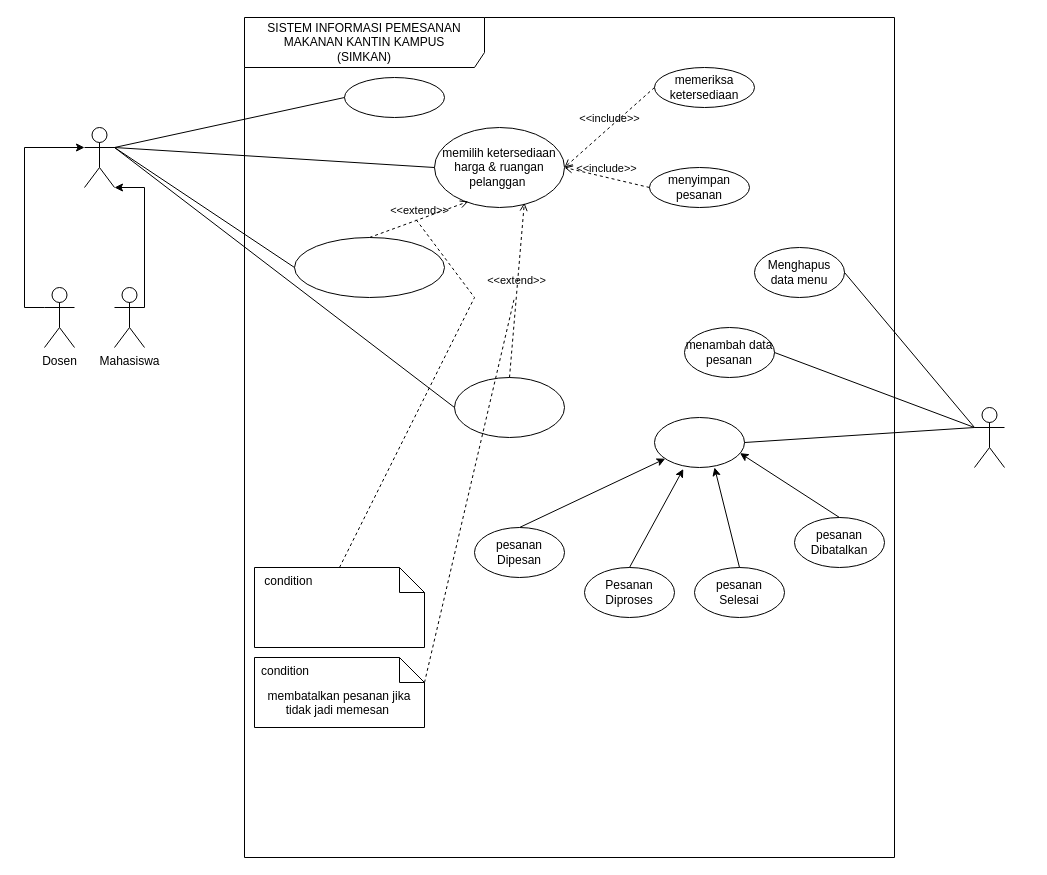
Some shapes in this 1047 by 875 pixel diagram are drawn without their labels. The shapes that lost their labels are listed below. From the top down, each one's box as (x1, y1, x2, y2) in pixels, then its label:
(344, 76, 444, 118): melihat daftar menu
(84, 126, 114, 188): Pelanggan
(294, 236, 444, 298): memesan makanan & memilih antar atau tidak
(454, 376, 564, 438): membatalkan pesanan makanan
(654, 416, 744, 468): Mengubah status pesanan
(974, 406, 1004, 468): Petugas Kantin
(254, 566, 424, 648): memilih makaanan yang tersedia & meilih antar keruangan atau tidak
